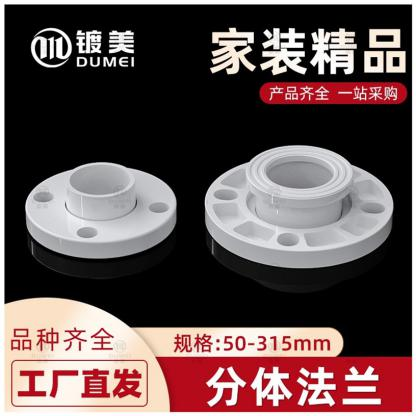FOD: (202, 142, 398, 271), (22, 160, 180, 261)
